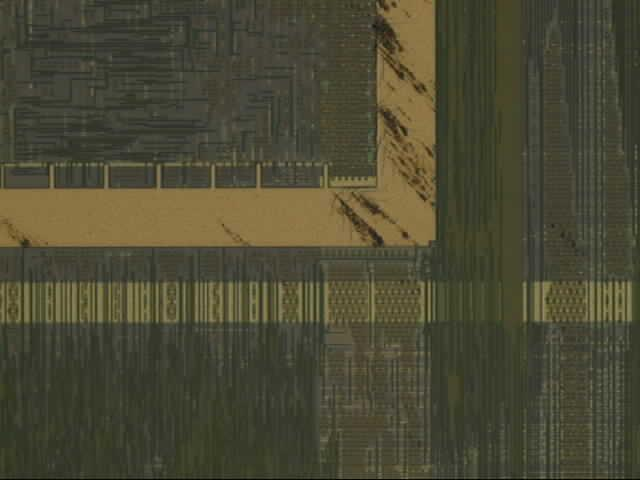SCRATCH: (1, 1, 455, 306)
